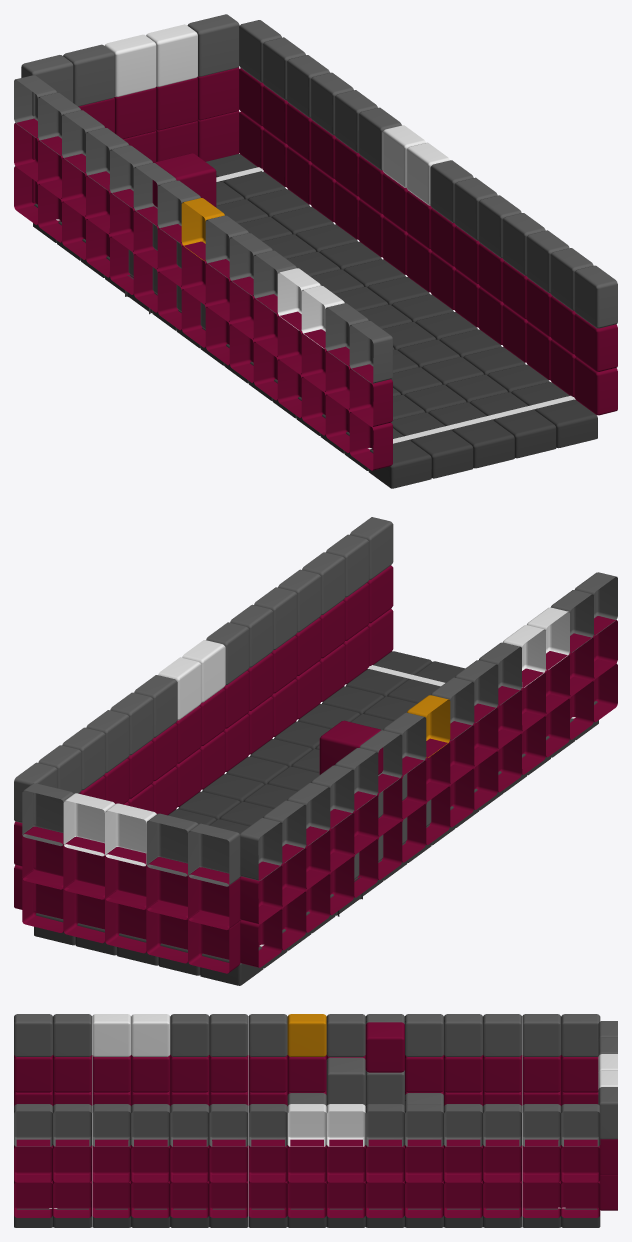
File: stage2.fbx
3 views of the same model, one above another, from view 1: azimuth 30°, elevation 25°; view 2: azimuth 150°, elevation 25°; view 3: azimuth 270°, elevation 25° (orthographic). The views are drawn at different scales.
Parts seen in each view (by area): view 1: polySurface468, polySurface465, polySurface462, polySurface471, polySurface449, polySurface350, polySurface526, polySurface485, polySurface438, polySurface316, yuka8, yuka5 (+126 smaller); view 2: polySurface407, polySurface461, polySurface460, polySurface464, polySurface470, polySurface467, polySurface473, polySurface462, polySurface468, polySurface525, polySurface465, polySurface523 (+102 smaller); view 3: polySurface533, polySurface530, polySurface403, polySurface517, polySurface495, polySurface499, polySurface405, polySurface496, polySurface497, polySurface498, polySurface435, polySurface430 (+99 smaller).
Boxes of the visible parts, bbox=[...] form: polySurface468: bbox=[146, 24, 197, 86]; polySurface465: bbox=[104, 34, 156, 96]; polySurface462: bbox=[63, 44, 114, 106]; polySurface471: bbox=[187, 14, 239, 76]; polySurface449: bbox=[574, 265, 617, 328]; polySurface350: bbox=[349, 407, 392, 470]; polySurface526: bbox=[349, 321, 392, 383]; polySurface485: bbox=[349, 364, 392, 426]; polySurface438: bbox=[574, 314, 617, 371]; polySurface316: bbox=[574, 357, 617, 415]; yuka8: bbox=[411, 430, 473, 478]; yuka5: bbox=[494, 409, 556, 458]; polySurface407: bbox=[188, 910, 240, 973]; polySurface461: bbox=[188, 823, 240, 886]; polySurface460: bbox=[188, 867, 240, 929]; polySurface464: bbox=[146, 900, 188, 963]; polySurface470: bbox=[63, 880, 105, 943]; polySurface467: bbox=[105, 890, 146, 953]; polySurface473: bbox=[22, 870, 63, 932]; polySurface462: bbox=[146, 813, 198, 876]; polySurface468: bbox=[63, 793, 115, 856]; polySurface525: bbox=[240, 905, 282, 967]; polySurface465: bbox=[105, 803, 156, 866]; polySurface523: bbox=[240, 818, 282, 880]; polySurface533: bbox=[365, 1022, 404, 1072]; polySurface530: bbox=[326, 1057, 365, 1105]; polySurface403: bbox=[92, 1014, 131, 1056]; polySurface517: bbox=[522, 1014, 561, 1056]; polySurface495: bbox=[131, 1014, 170, 1056]; polySurface499: bbox=[326, 1014, 365, 1056]; polySurface405: bbox=[287, 1014, 326, 1056]; polySurface496: bbox=[170, 1014, 209, 1056]; polySurface497: bbox=[209, 1014, 248, 1056]; polySurface498: bbox=[248, 1014, 287, 1056]; polySurface435: bbox=[326, 1175, 365, 1217]; polySurface430: bbox=[131, 1175, 170, 1217].
Bounding box in the file's own units: 58.9 × 35.42 × 155.
